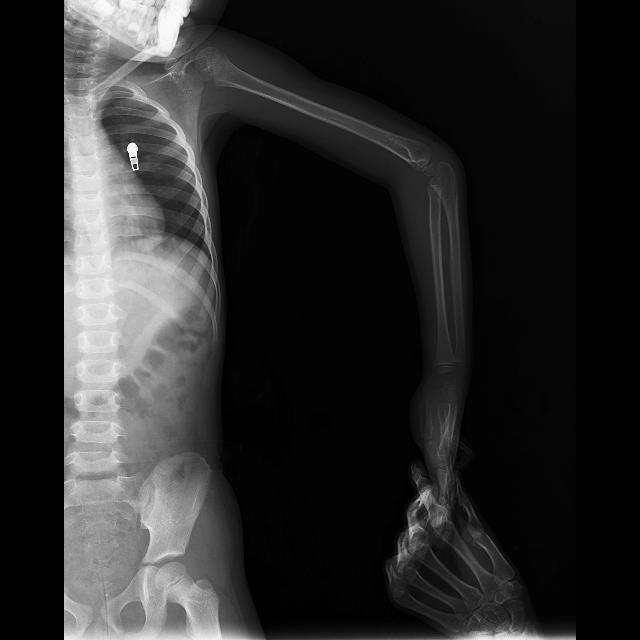Fracture: (426, 168, 462, 207)
